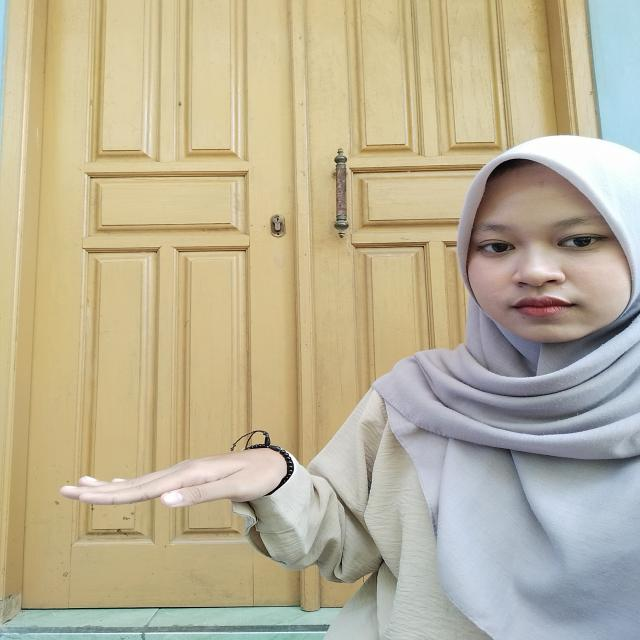adik: (31, 429, 312, 534)
